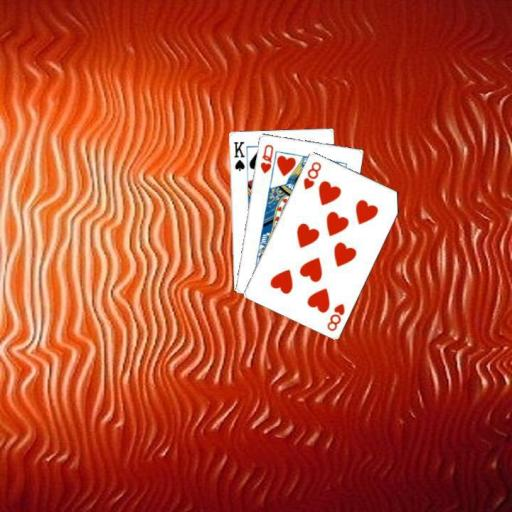card-corner: (300, 158, 323, 190), (324, 300, 346, 332), (256, 141, 274, 174), (230, 138, 246, 172)
